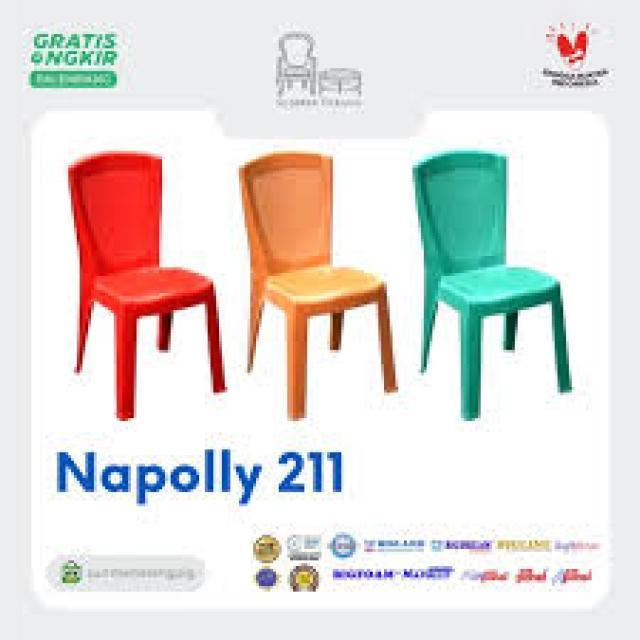chair: (414, 143, 576, 421), (238, 146, 400, 421), (66, 149, 226, 423)
